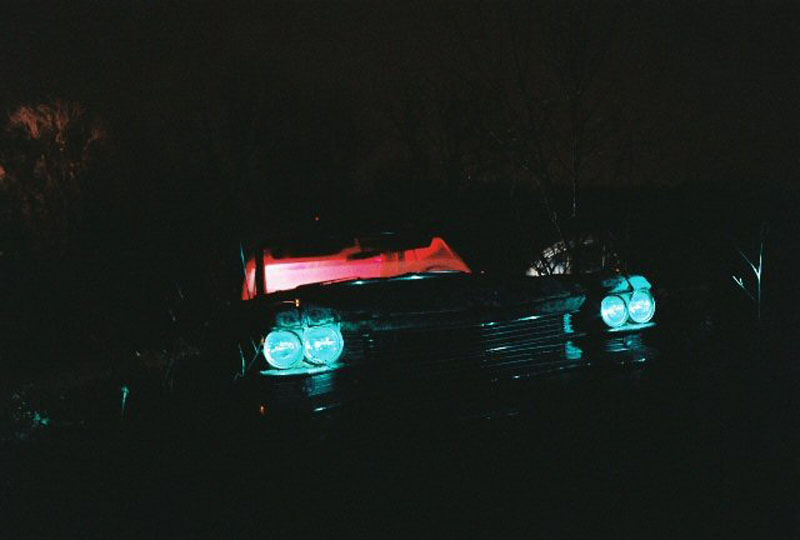car: (174, 218, 678, 491)
